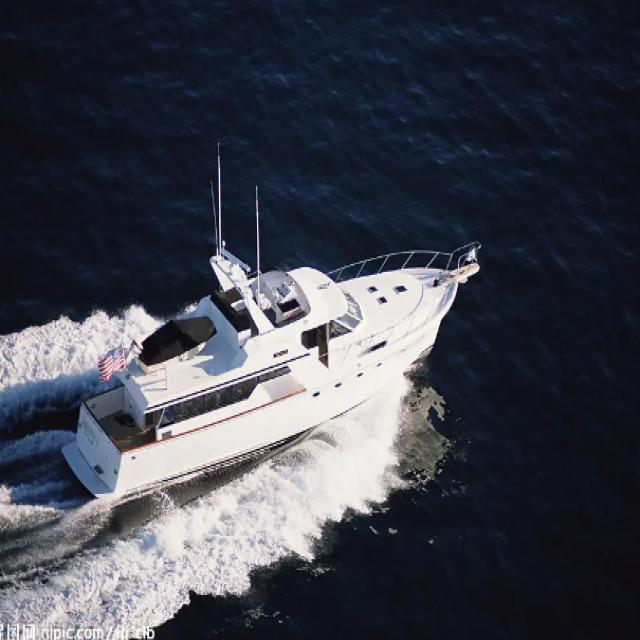houseboat: (49, 166, 483, 536)
